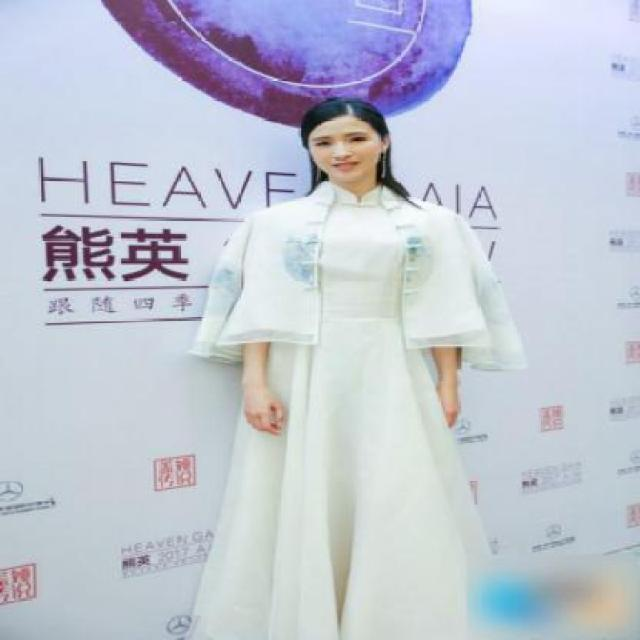Person: (192, 81, 573, 640)
